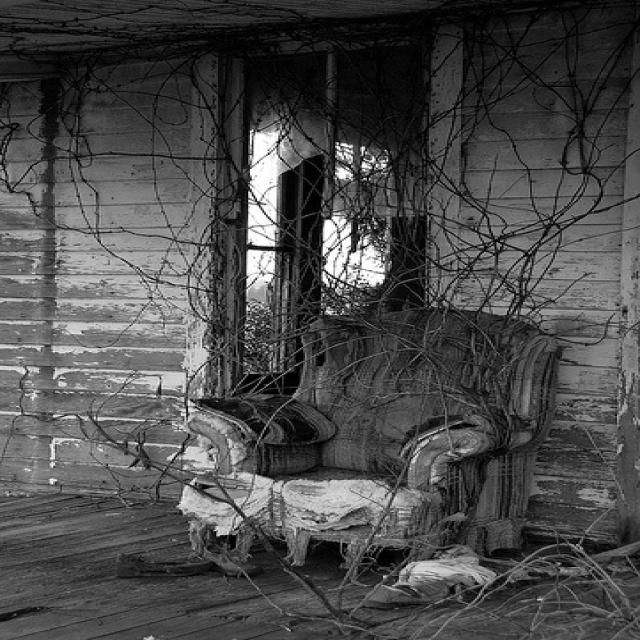chair: (179, 303, 560, 575)
